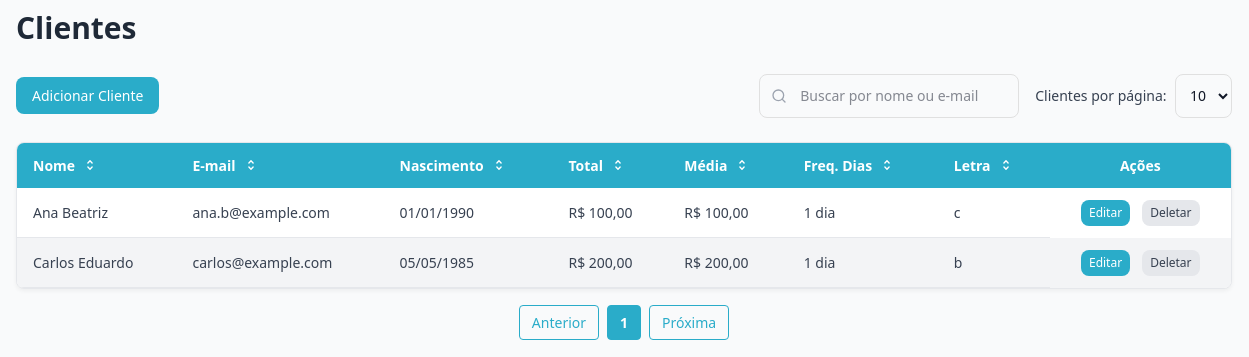
Test: ClientsPage CRUD › Should delete a client correctly
The width and height of the screenshot is (1249, 357).
Expected: the text "Carlos Eduardo" is shown, x1=17 y1=238 x2=176 y2=288
Click the button "Deletar" in the row of "Carlos Eduardo".
click(1171, 263)  # box x1=1142 y1=250 x2=1200 y2=276
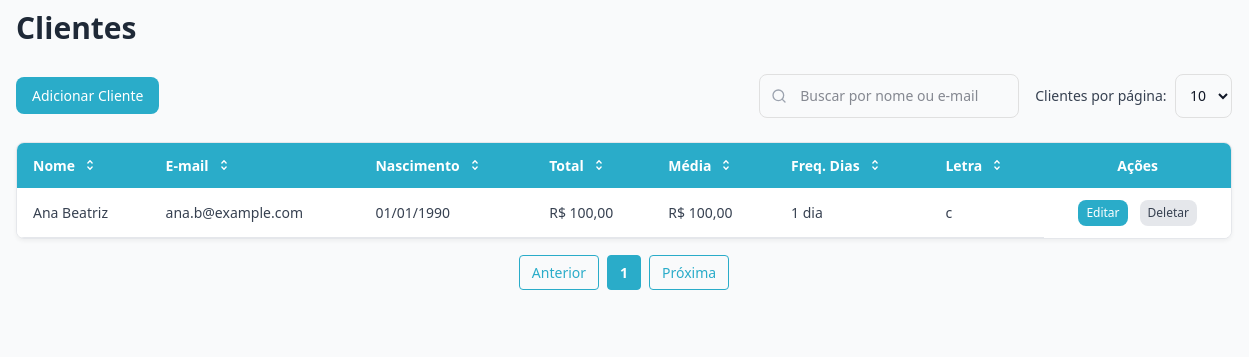
Expected: the text "Carlos Eduardo" is gone
